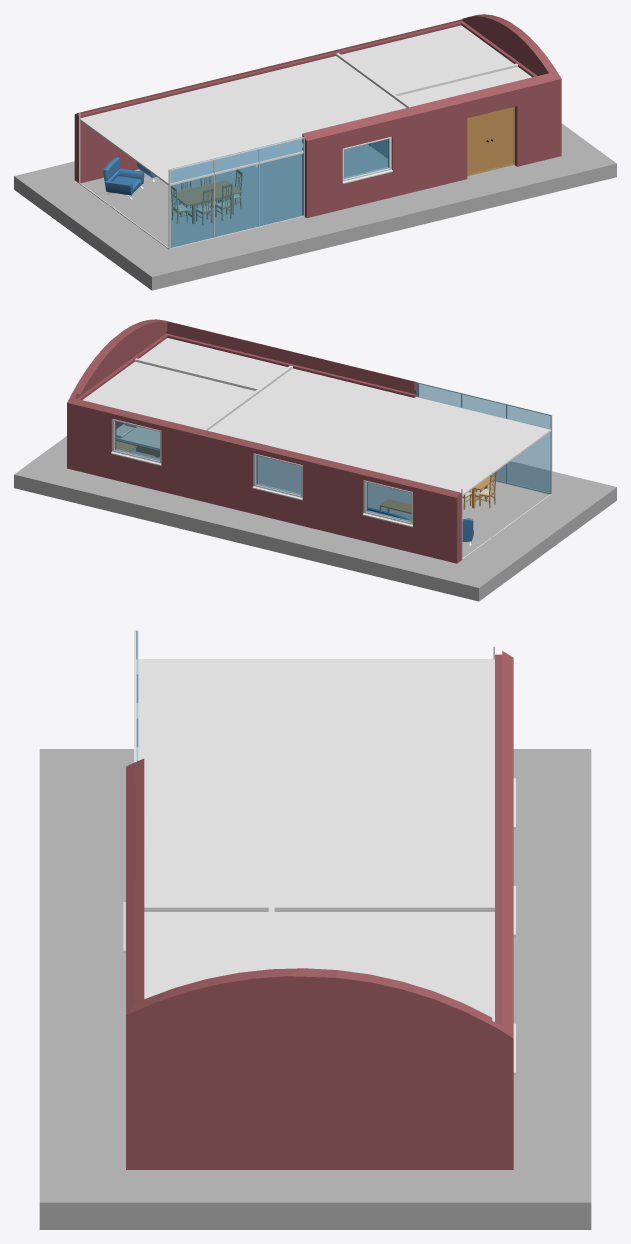
File: Ifc4_SampleHouse_0_GroundFloor.obj
3 renders of one model, top to bottom at view 1: azimuth 30°, elevation 25°; view 2: azimuth 150°, elevation 25°; view 3: azimuth 270°, elevation 25°, orthographic. The views are drawn at different scales.
Parts seen in each view (by area): view 1: Floor_Floor-Grnd-Susp_65Scr-80Ins-100Blk-75PC_286349_3cUkl32yn9q, Compound_Ceiling_Plain_286319_3cUkl32yn9qRSPvBJVyWfu, Basic_Wall_Wall-Ext_102Bwk-75Ins-100LBlk-12P_285459_3cUkl32yn9qR, Compound_Ceiling_Plain_286329_3cUkl32yn9qRSPvBJVyWfk, Basic_Wall_Wall-Ext_102Bwk-75Ins-100LBlk-12P_285330_3cUkl32yn9qR, Basic_Wall_Wall-Ext_102Bwk-75Ins-100LBlk-12P_285395_3cUkl32yn9qR, System_Panel_Glazed_285688_3cUkl32yn9qRSPvBJVyW$l, System_Panel_Glazed_285685_3cUkl32yn9qRSPvBJVyW$Y, System_Panel_Glazed_285690_3cUkl32yn9qRSPvBJVyW$j, Doors_ExtDbl_Flush_1810x2110mm_285860_3cUkl32yn9qRSPvBJVyWYp, Windows_Sgl_Plain_1810x1210mm_287567_3cUkl32yn9qRSPvBJVyZTO, Compound_Ceiling_Plain_286337_3cUkl32yn9qRSPvBJVyWgM (+5 smaller); view 2: Floor_Floor-Grnd-Susp_65Scr-80Ins-100Blk-75PC_286349_3cUkl32yn9q, Basic_Wall_Wall-Ext_102Bwk-75Ins-100LBlk-12P_285330_3cUkl32yn9qR, Compound_Ceiling_Plain_286319_3cUkl32yn9qRSPvBJVyWfu, Compound_Ceiling_Plain_286329_3cUkl32yn9qRSPvBJVyWfk, Basic_Wall_Wall-Ext_102Bwk-75Ins-100LBlk-12P_285459_3cUkl32yn9qR, Compound_Ceiling_Plain_286337_3cUkl32yn9qRSPvBJVyWgM, Basic_Wall_Wall-Ext_102Bwk-75Ins-100LBlk-12P_285395_3cUkl32yn9qR, System_Panel_Glazed_285685_3cUkl32yn9qRSPvBJVyW$Y, Windows_Sgl_Plain_1810x1210mm_286105_3cUkl32yn9qRSPvBJVyWcE, Windows_Sgl_Plain_1810x1210mm_286188_3cUkl32yn9qRSPvBJVyWdx, Windows_Sgl_Plain_1810x1210mm_286238_3cUkl32yn9qRSPvBJVyWe9, Curtain_Wall_Curtain_Wall-Exterior_Glazing_8490_09J5N7xMHBfQZeQG (+5 smaller); view 3: Floor_Floor-Grnd-Susp_65Scr-80Ins-100Blk-75PC_286349_3cUkl32yn9q, Compound_Ceiling_Plain_286319_3cUkl32yn9qRSPvBJVyWfu, Basic_Wall_Wall-Ext_102Bwk-75Ins-100LBlk-12P_285395_3cUkl32yn9qR, Compound_Ceiling_Plain_286329_3cUkl32yn9qRSPvBJVyWfk, Basic_Wall_Wall-Ext_102Bwk-75Ins-100LBlk-12P_285330_3cUkl32yn9qR, Compound_Ceiling_Plain_286337_3cUkl32yn9qRSPvBJVyWgM, Basic_Wall_Wall-Ext_102Bwk-75Ins-100LBlk-12P_285459_3cUkl32yn9qR, Basic_Wall_Wall-Partn_12P-70MStd-12P_285792_3cUkl32yn9qRSPvBJVyW.
Boxes of the visible parts, bbox=[...] form: Floor_Floor-Grnd-Susp_65Scr-80Ins-100Blk-75PC_286349_3cUkl32yn9q: bbox=[14, 123, 616, 290]; Compound_Ceiling_Plain_286319_3cUkl32yn9qRSPvBJVyWfu: bbox=[80, 56, 406, 185]; Basic_Wall_Wall-Ext_102Bwk-75Ins-100LBlk-12P_285459_3cUkl32yn9qR: bbox=[302, 73, 553, 217]; Compound_Ceiling_Plain_286329_3cUkl32yn9qRSPvBJVyWfk: bbox=[341, 25, 513, 93]; Basic_Wall_Wall-Ext_102Bwk-75Ins-100LBlk-12P_285330_3cUkl32yn9qR: bbox=[74, 19, 464, 183]; Basic_Wall_Wall-Ext_102Bwk-75Ins-100LBlk-12P_285395_3cUkl32yn9qR: bbox=[461, 14, 561, 157]; System_Panel_Glazed_285688_3cUkl32yn9qRSPvBJVyW$l: bbox=[214, 148, 258, 236]; System_Panel_Glazed_285685_3cUkl32yn9qRSPvBJVyW$Y: bbox=[169, 159, 213, 247]; System_Panel_Glazed_285690_3cUkl32yn9qRSPvBJVyW$j: bbox=[259, 137, 302, 225]; Doors_ExtDbl_Flush_1810x2110mm_285860_3cUkl32yn9qRSPvBJVyWYp: bbox=[467, 106, 514, 176]; Windows_Sgl_Plain_1810x1210mm_287567_3cUkl32yn9qRSPvBJVyZTO: bbox=[342, 136, 392, 183]; Compound_Ceiling_Plain_286337_3cUkl32yn9qRSPvBJVyWgM: bbox=[398, 67, 531, 106]; Floor_Floor-Grnd-Susp_65Scr-80Ins-100Blk-75PC_286349_3cUkl32yn9q: bbox=[14, 436, 616, 601]; Basic_Wall_Wall-Ext_102Bwk-75Ins-100LBlk-12P_285330_3cUkl32yn9qR: bbox=[67, 394, 461, 563]; Compound_Ceiling_Plain_286319_3cUkl32yn9qRSPvBJVyWfu: bbox=[208, 368, 551, 495]; Compound_Ceiling_Plain_286329_3cUkl32yn9qRSPvBJVyWfk: bbox=[82, 361, 254, 429]; Basic_Wall_Wall-Ext_102Bwk-75Ins-100LBlk-12P_285459_3cUkl32yn9qR: bbox=[167, 321, 418, 397]; Compound_Ceiling_Plain_286337_3cUkl32yn9qRSPvBJVyWgM: bbox=[139, 338, 287, 387]; Basic_Wall_Wall-Ext_102Bwk-75Ins-100LBlk-12P_285395_3cUkl32yn9qR: bbox=[72, 319, 169, 428]; System_Panel_Glazed_285685_3cUkl32yn9qRSPvBJVyW$Y: bbox=[506, 404, 550, 494]; Windows_Sgl_Plain_1810x1210mm_286105_3cUkl32yn9qRSPvBJVyWcE: bbox=[111, 418, 161, 465]; Windows_Sgl_Plain_1810x1210mm_286188_3cUkl32yn9qRSPvBJVyWdx: bbox=[252, 453, 302, 500]; Windows_Sgl_Plain_1810x1210mm_286238_3cUkl32yn9qRSPvBJVyWe9: bbox=[362, 480, 412, 527]; Curtain_Wall_Curtain_Wall-Exterior_Glazing_8490_09J5N7xMHBfQZeQG: bbox=[416, 382, 552, 560]; Floor_Floor-Grnd-Susp_65Scr-80Ins-100Blk-75PC_286349_3cUkl32yn9q: bbox=[39, 749, 591, 1229]; Compound_Ceiling_Plain_286319_3cUkl32yn9qRSPvBJVyWfu: bbox=[136, 659, 494, 904]; Basic_Wall_Wall-Ext_102Bwk-75Ins-100LBlk-12P_285395_3cUkl32yn9qR: bbox=[126, 968, 494, 1169]; Compound_Ceiling_Plain_286329_3cUkl32yn9qRSPvBJVyWfk: bbox=[274, 912, 494, 1021]; Basic_Wall_Wall-Ext_102Bwk-75Ins-100LBlk-12P_285330_3cUkl32yn9qR: bbox=[495, 651, 513, 1169]; Compound_Ceiling_Plain_286337_3cUkl32yn9qRSPvBJVyWgM: bbox=[144, 912, 268, 998]; Basic_Wall_Wall-Ext_102Bwk-75Ins-100LBlk-12P_285459_3cUkl32yn9qR: bbox=[126, 758, 144, 1007]; Basic_Wall_Wall-Partn_12P-70MStd-12P_285792_3cUkl32yn9qRSPvBJVyW: bbox=[144, 905, 494, 911].
Size of the model in its own units: 16.87 by 3.83 by 8.67.
